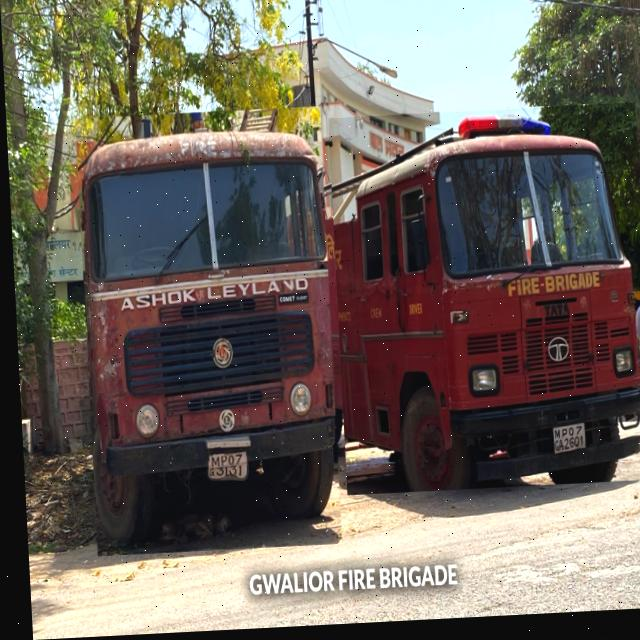Fire Truck: (327, 109, 640, 499), (74, 109, 337, 557)
